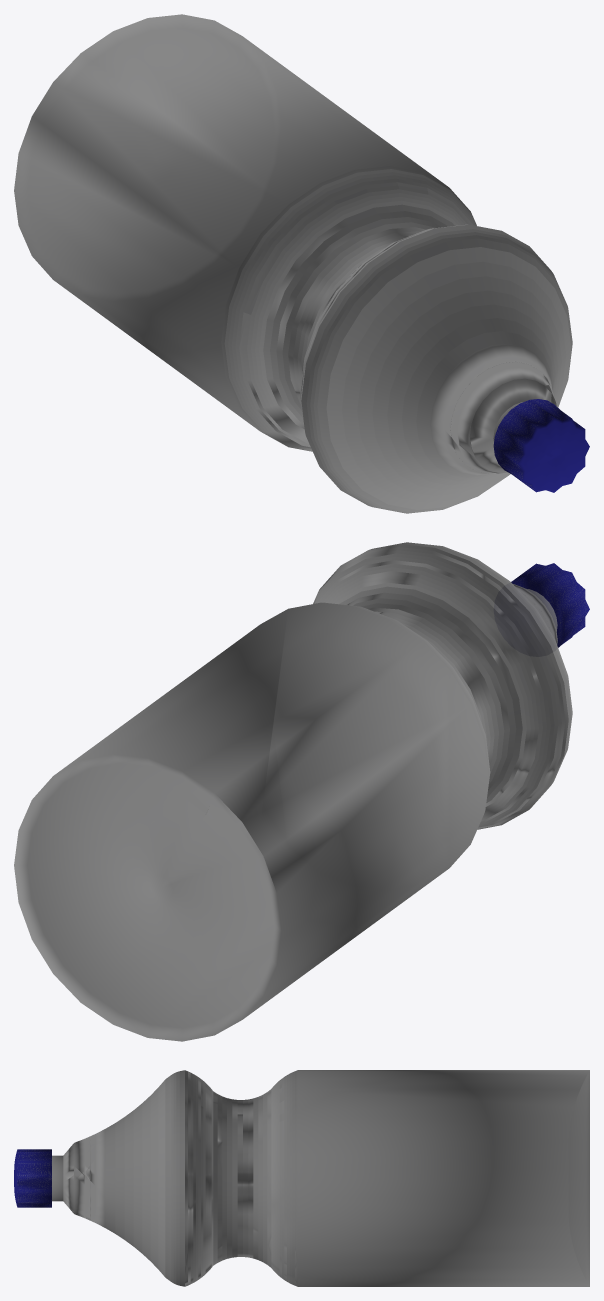
File: model_align.obj
The picture shows the model from 3 angles, top to bottom: view 1: azimuth 30°, elevation 25°; view 2: azimuth 150°, elevation 25°; view 3: azimuth 270°, elevation 25°; orthographic projection. The views are drawn at different scales.
Visible parts, largest first — view 1: mesh1_mesh1-geometry, mesh2_mesh2-geometry; view 2: mesh1_mesh1-geometry, mesh2_mesh2-geometry; view 3: mesh1_mesh1-geometry, mesh2_mesh2-geometry.
Boxes of the visible parts, x1,y1,x2,y2 form: mesh1_mesh1-geometry: (14, 14, 572, 513); mesh2_mesh2-geometry: (493, 399, 589, 492); mesh1_mesh1-geometry: (14, 542, 572, 1041); mesh2_mesh2-geometry: (511, 563, 589, 647); mesh1_mesh1-geometry: (52, 1070, 589, 1286); mesh2_mesh2-geometry: (14, 1149, 51, 1207).
Bounding box in the file's own units: 0.0998 × 0.0997 × 0.2641.
